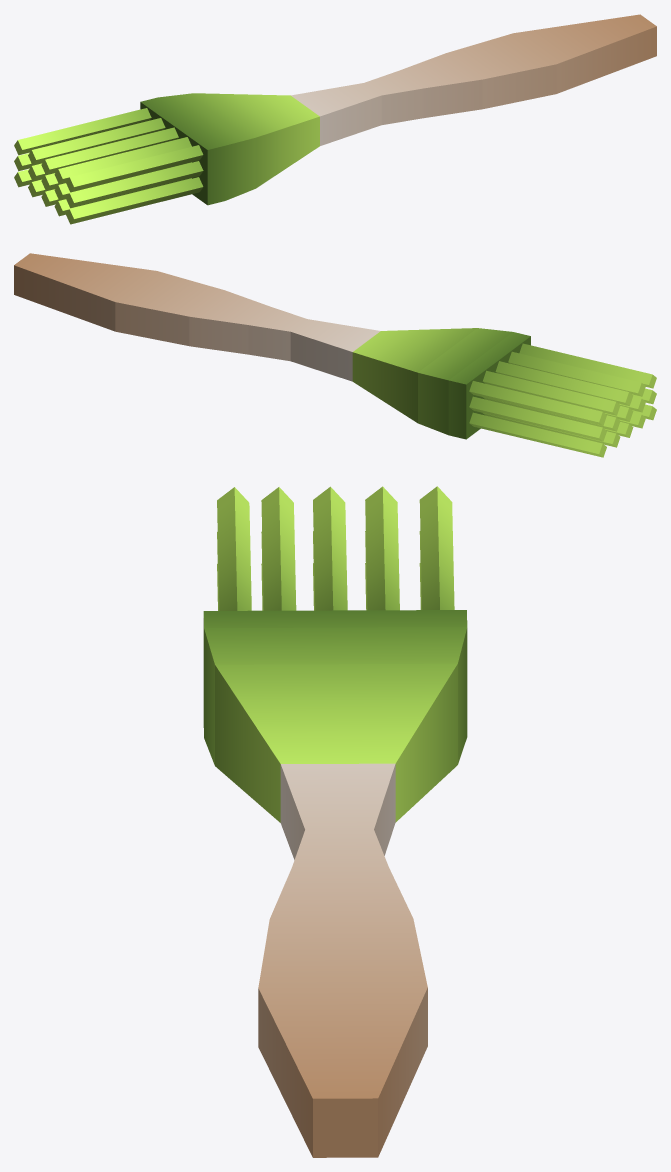
The model's file is Pinceau_Friture.fbx.
The picture shows the model from 3 angles, top to bottom: view 1: azimuth 30°, elevation 25°; view 2: azimuth 150°, elevation 25°; view 3: azimuth 270°, elevation 25°; orthographic projection. The views are drawn at different scales.
Parts seen in each view (by area): view 1: Cube.077, Cube.076; view 2: Cube.077, Cube.076; view 3: Cube.077, Cube.076.
Part boxes in pixels (x1,y1,x2,y2): Cube.077: (140,14,656,205); Cube.076: (14,108,203,224); Cube.077: (14,253,530,439); Cube.076: (469,343,656,457); Cube.077: (203,610,467,1157); Cube.076: (217,486,454,610).
Size of the model in its own units: 22.99 by 2 by 4.34.
